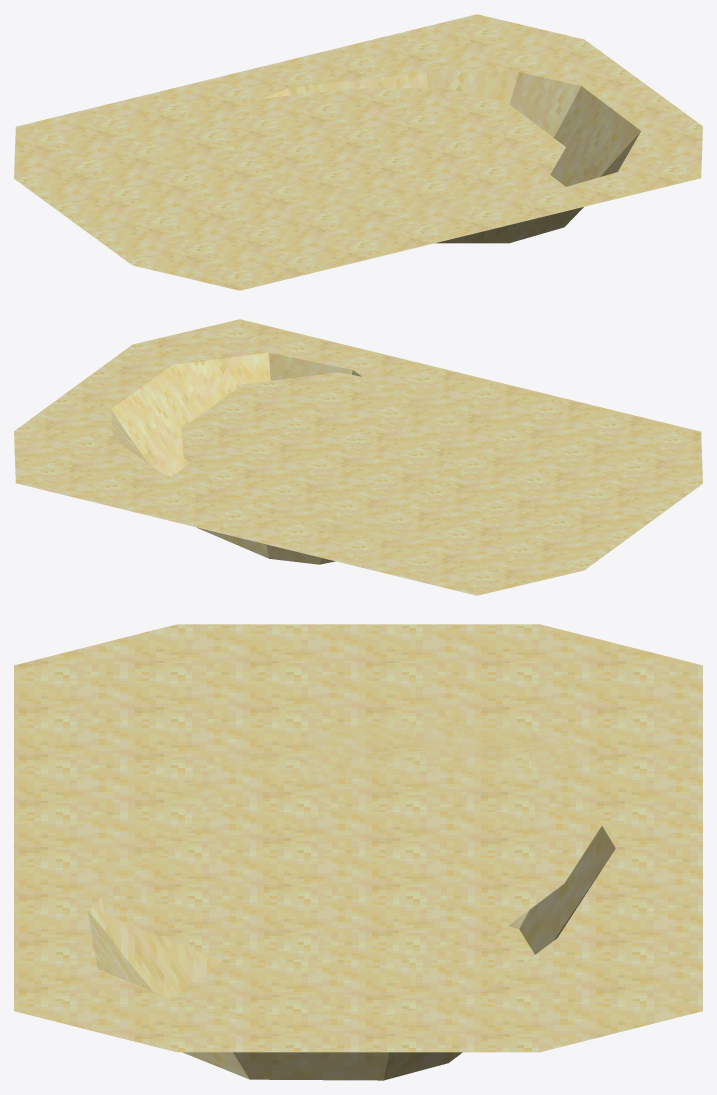
File: 1409item2799r.gltf
The picture shows the model from 3 angles, top to bottom: view 1: azimuth 30°, elevation 25°; view 2: azimuth 150°, elevation 25°; view 3: azimuth 270°, elevation 25°; orthographic projection. The views are drawn at different scales.
Parts seen in each view (by area): view 1: 1409item2799r; view 2: 1409item2799r; view 3: 1409item2799r.
Part boxes in pixels (left/top/right/bottom): 1409item2799r: left=14, top=14, right=702, bottom=290; 1409item2799r: left=14, top=319, right=702, bottom=595; 1409item2799r: left=14, top=624, right=702, bottom=1080.
Size of the model in its own units: 0.6348 by 0.0698 by 0.4321.
Materials: 1 (1 with a texture image).
